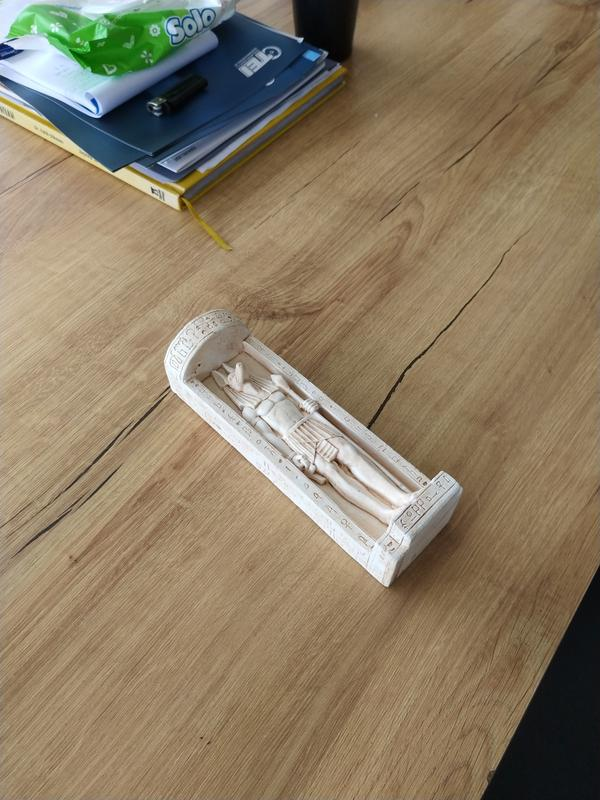heykel: (155, 303, 469, 595)
